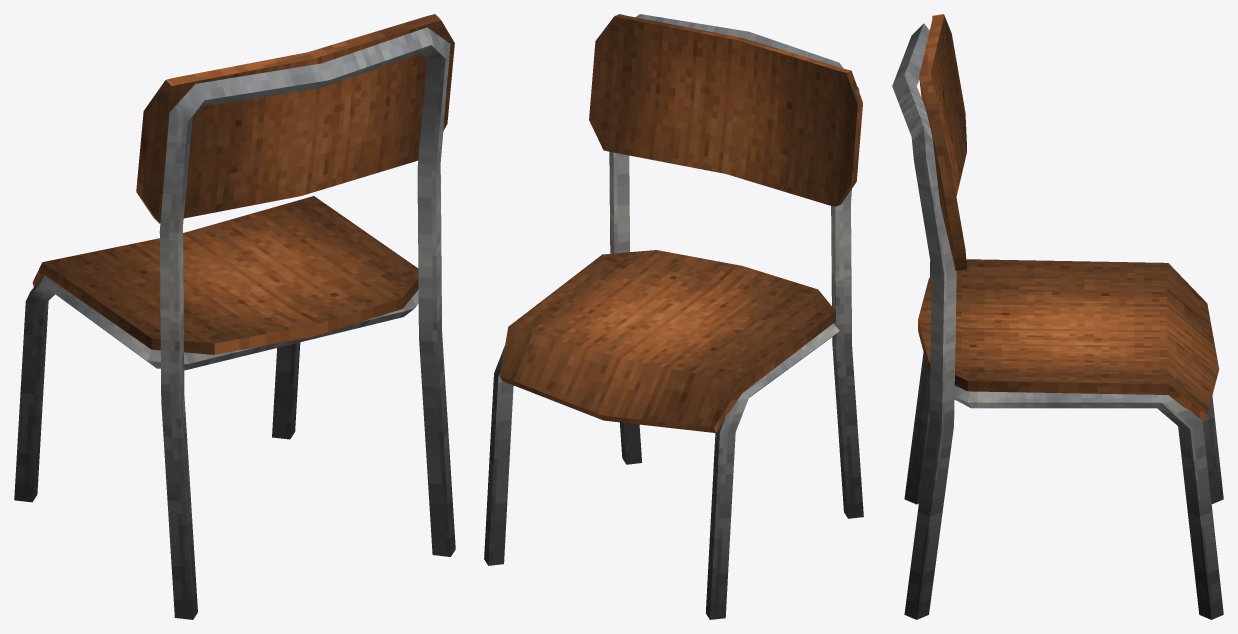
File: Chair.FBX
3 views of the same model, side by side, from view 1: azimuth 30°, elevation 25°; view 2: azimuth 150°, elevation 25°; view 3: azimuth 270°, elevation 25° (orthographic). The views are drawn at different scales.
Parts seen in each view (by area): view 1: Chair; view 2: Chair; view 3: Chair.
Part boxes in pixels (x1=…): Chair: x1=14, y1=14, x2=455, y2=619; Chair: x1=484, y1=14, x2=863, y2=619; Chair: x1=892, y1=14, x2=1223, y2=619.
Bounding box in the file's own units: 54.94 × 90.51 × 56.36.
